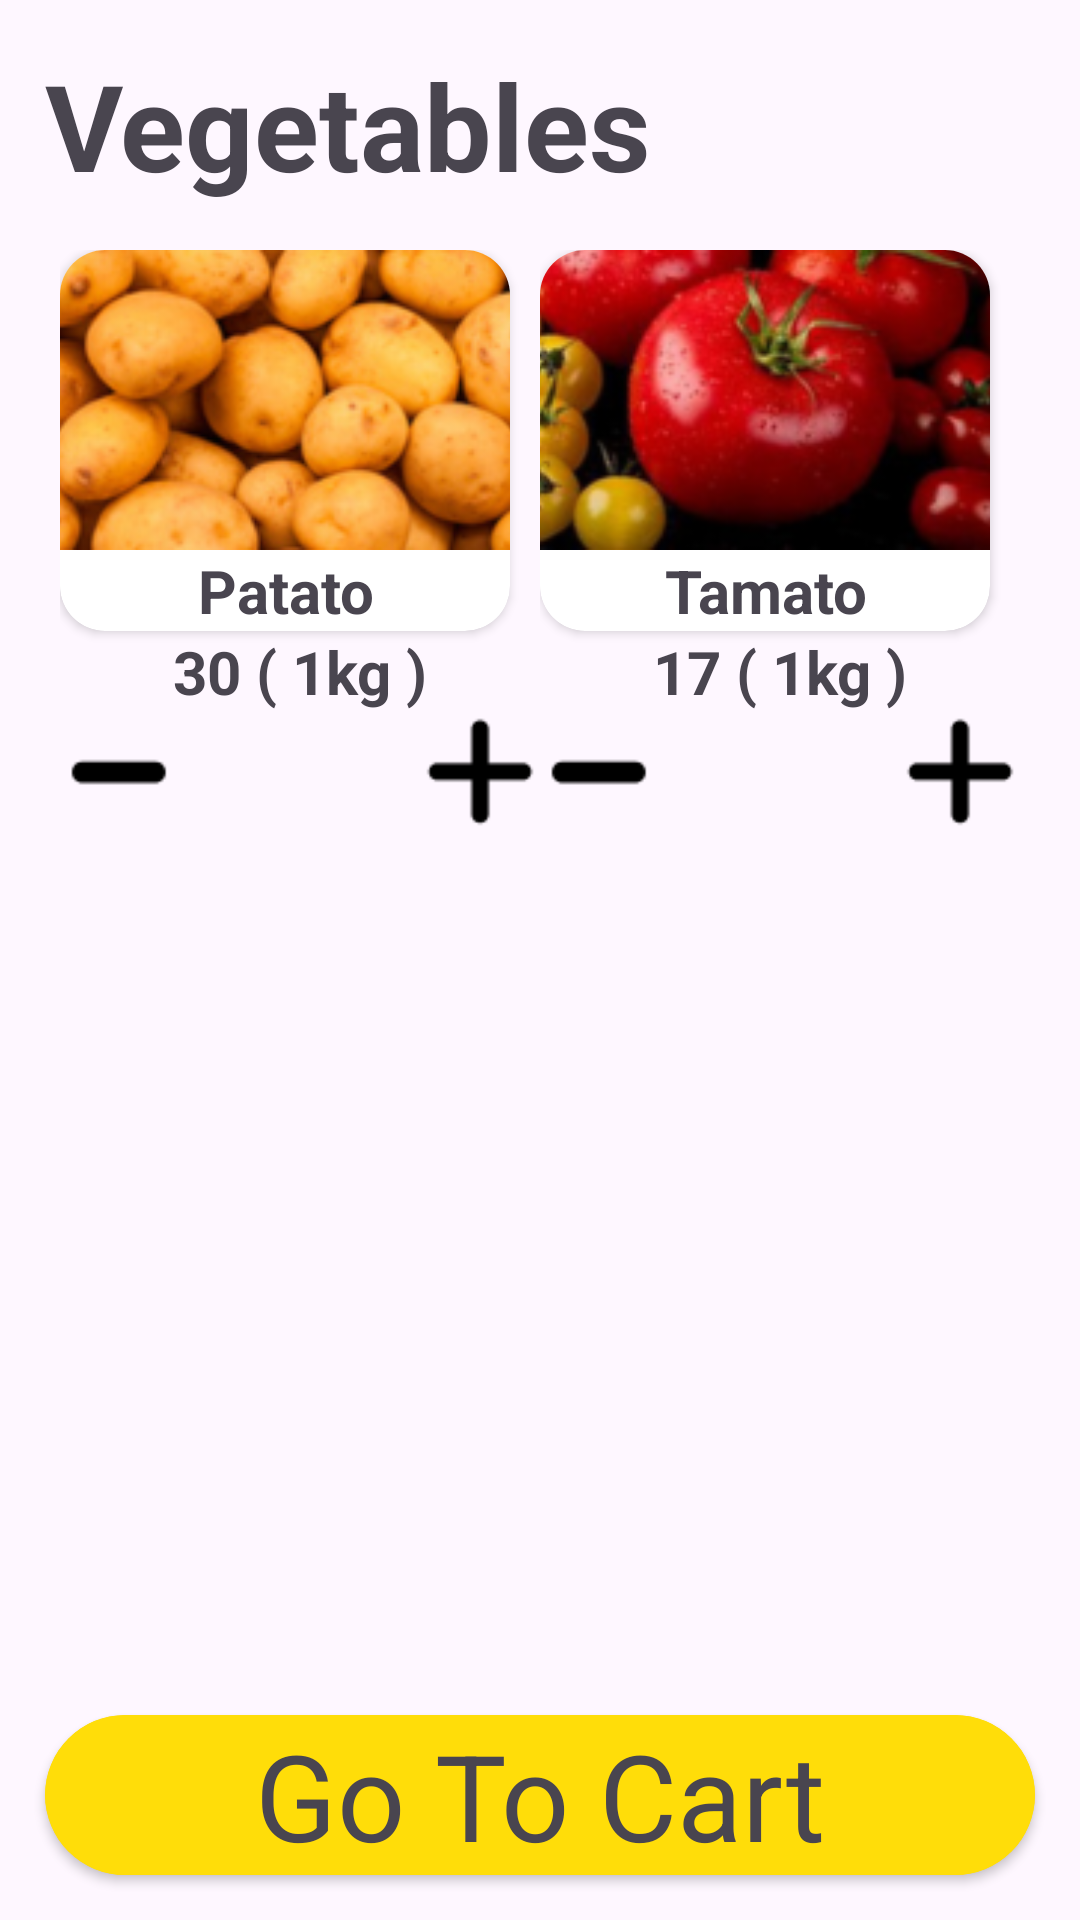

Where to tap for icons on this 1080px×1920px app screen, as (x,y):
add: (480,772), (960,772)
minus: (119,772), (599,772)
